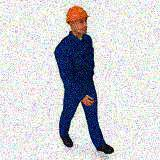helmet: (65, 5, 89, 33)
